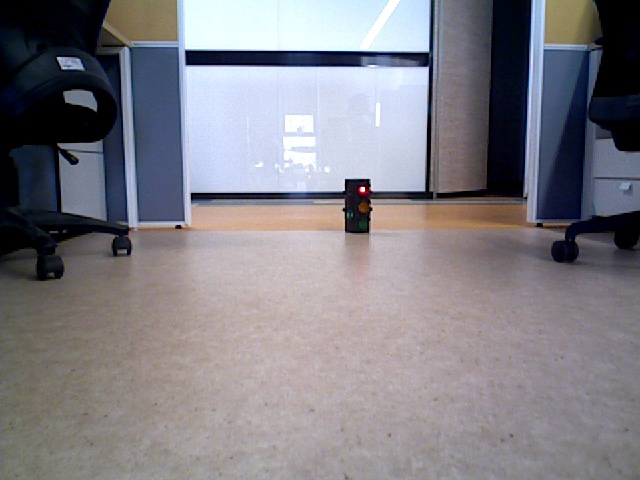red: (345, 178, 371, 230)
